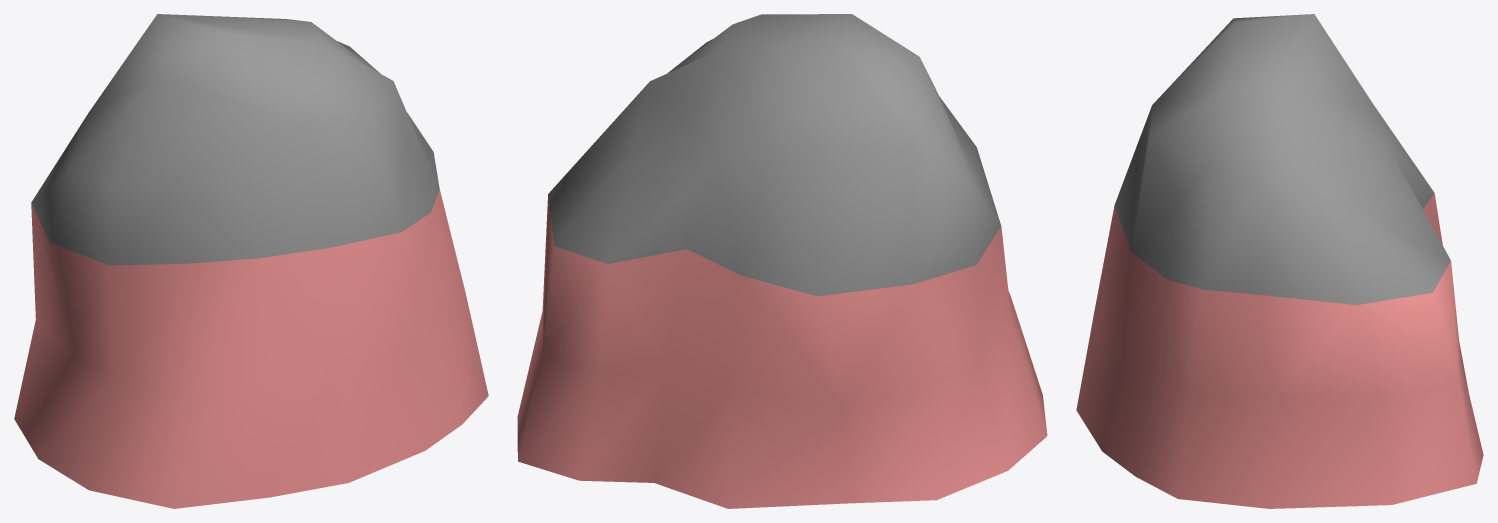
File: stone_04.gltf
3 views of the same model, side by side, from view 1: azimuth 30°, elevation 25°; view 2: azimuth 150°, elevation 25°; view 3: azimuth 270°, elevation 25° (orthographic). The views are drawn at different scales.
Visible parts, largest first — view 1: stone_04; view 2: stone_04; view 3: stone_04.
Boxes of the visible parts, x1,y1,x2,y2 form: stone_04: (14, 14, 488, 508); stone_04: (517, 14, 1047, 508); stone_04: (1076, 14, 1483, 508).
Size of the model in its own units: 0.3899 by 0.3469 by 0.3458.
